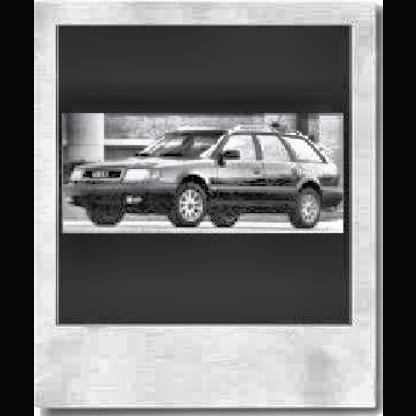Audi 100 Wagon 1994: (66, 127, 347, 229)
